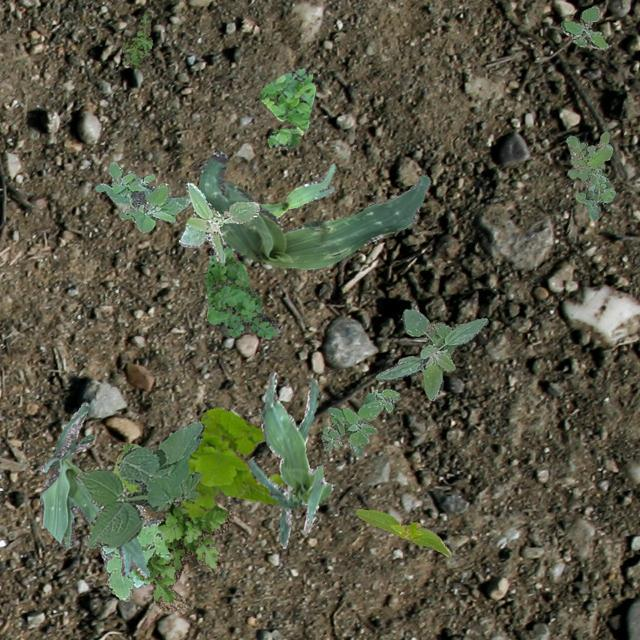crop: (198, 150, 430, 268), (38, 400, 148, 576), (248, 370, 332, 546), (356, 508, 450, 556), (258, 162, 334, 218)
weed: (118, 442, 232, 610), (113, 408, 284, 516), (74, 421, 202, 548), (374, 308, 486, 400), (204, 244, 282, 338), (100, 502, 172, 600), (94, 160, 190, 232), (178, 182, 258, 262), (320, 388, 398, 456), (258, 67, 314, 152), (566, 130, 614, 220), (560, 6, 608, 48), (122, 9, 152, 66)
